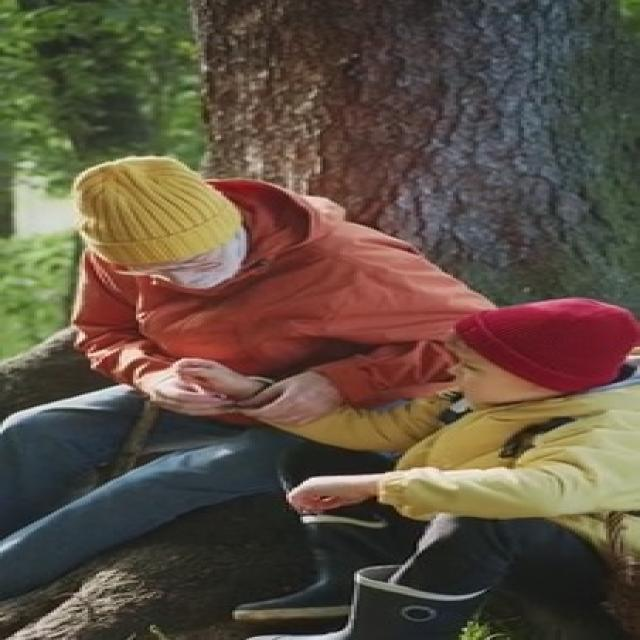Jacket_Wearer: (53, 234, 531, 423)
Person: (16, 130, 480, 516)
